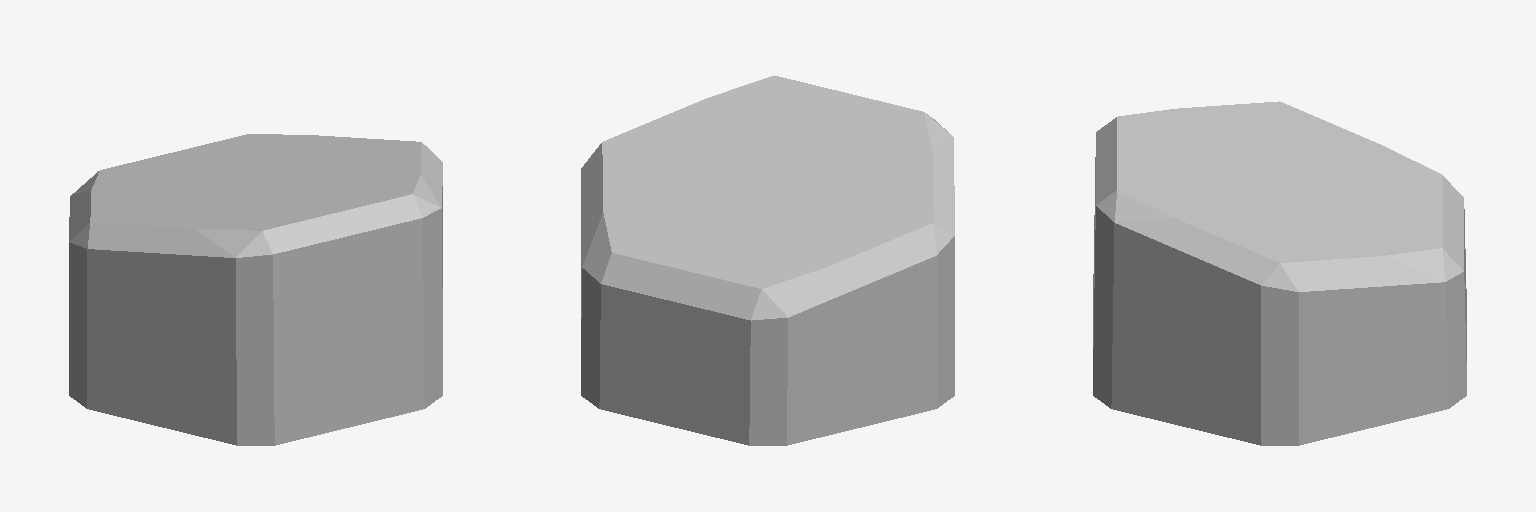
File: small_tank_turret.obj
The picture shows the model from 3 angles: view 1: azimuth 30°, elevation 25°; view 2: azimuth 150°, elevation 25°; view 3: azimuth 270°, elevation 25°; orthographic projection.
Parts seen in each view (by area): view 1: Cylinder.004_Cylinder.003; view 2: Cylinder.004_Cylinder.003; view 3: Cylinder.004_Cylinder.003.
Part boxes in pixels (x1,y1,x2,y2): Cylinder.004_Cylinder.003: (69,134,442,445); Cylinder.004_Cylinder.003: (581,75,954,445); Cylinder.004_Cylinder.003: (1093,101,1466,445).
Bounding box in the file's own units: 0.3558 × 0.1966 × 0.3243.